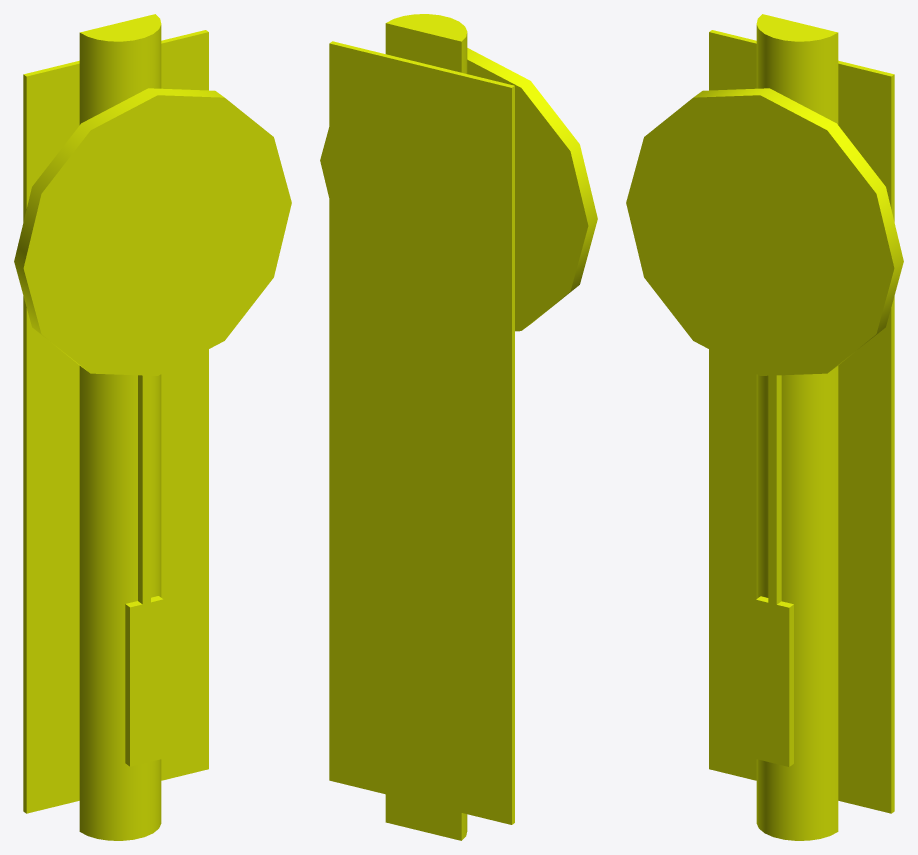
File: Clock_2.FBX
3 renders of one model, left to right at view 1: azimuth 30°, elevation 25°; view 2: azimuth 150°, elevation 25°; view 3: azimuth 330°, elevation 25°, orthographic.
Visible parts, largest first — view 1: Box031; view 2: Box031; view 3: Box031.
Part boxes in pixels (x1=…): Box031: x1=14, y1=14, x2=291, y2=840; Box031: x1=320, y1=14, x2=597, y2=840; Box031: x1=626, y1=14, x2=903, y2=840.
Bounding box in the file's own units: 0.6962 × 1.98 × 0.1934.
